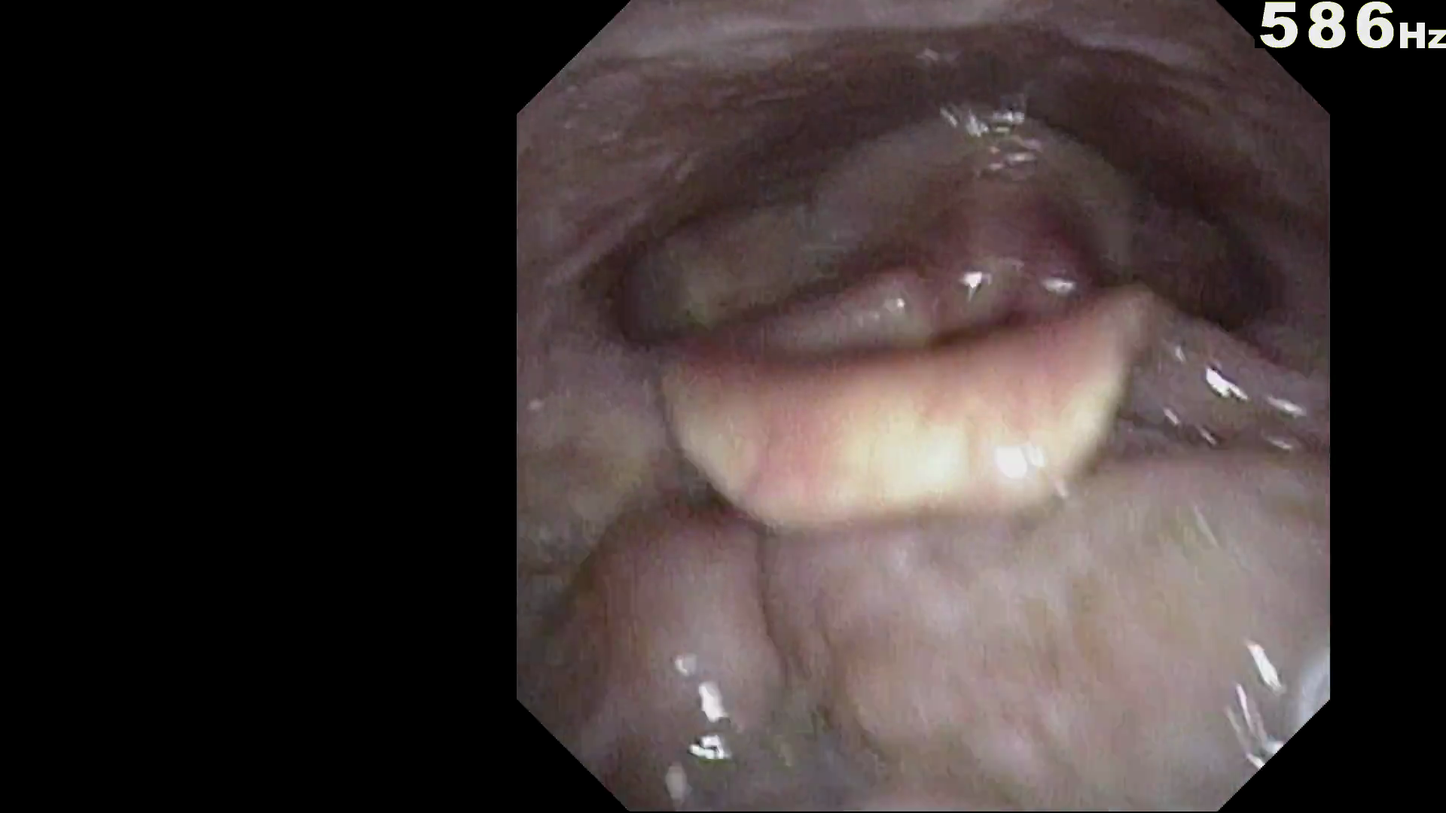epiglottis: (679, 311, 1239, 491)
